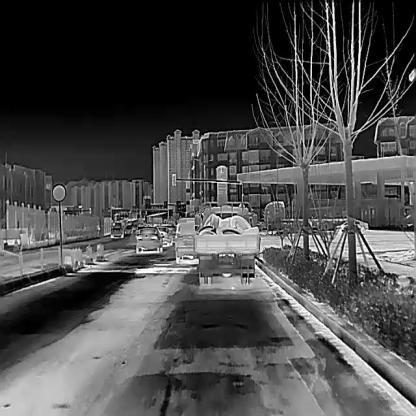car: (191, 200, 260, 284), (259, 198, 346, 233), (173, 212, 200, 265), (135, 225, 163, 254), (334, 215, 370, 235), (154, 224, 173, 247), (108, 221, 124, 239), (165, 224, 177, 240), (123, 223, 134, 234)
